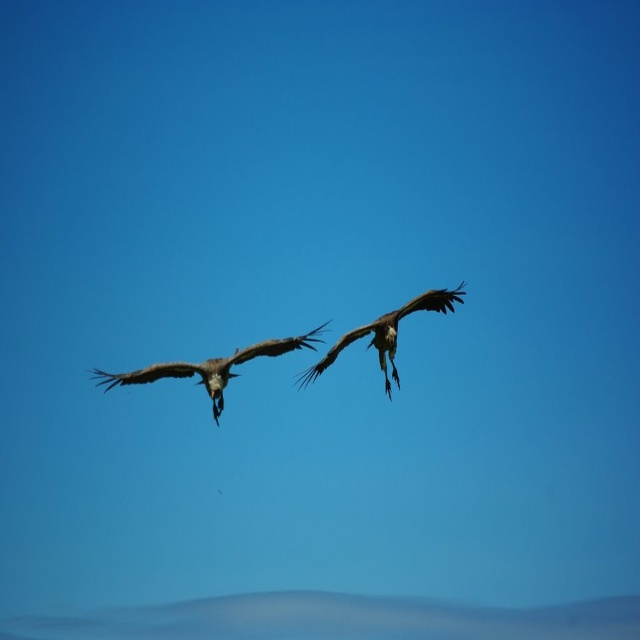Eagle: (89, 319, 334, 429), (292, 280, 467, 400)
